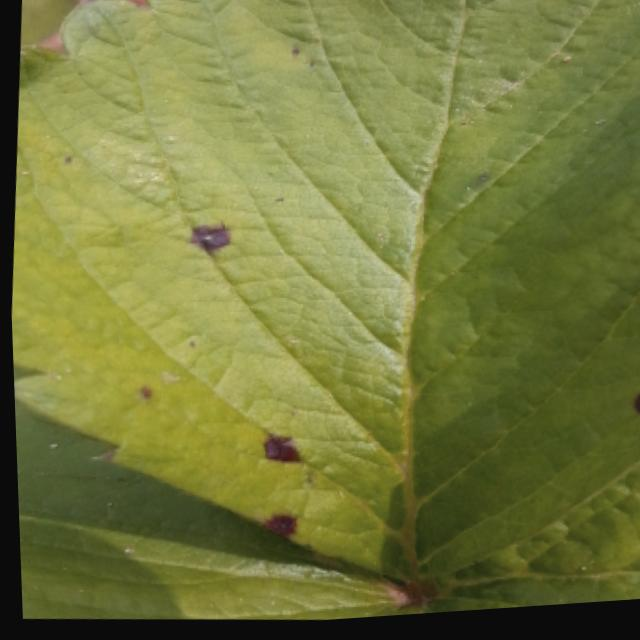Leaf Spot: (9, 0, 640, 591)
